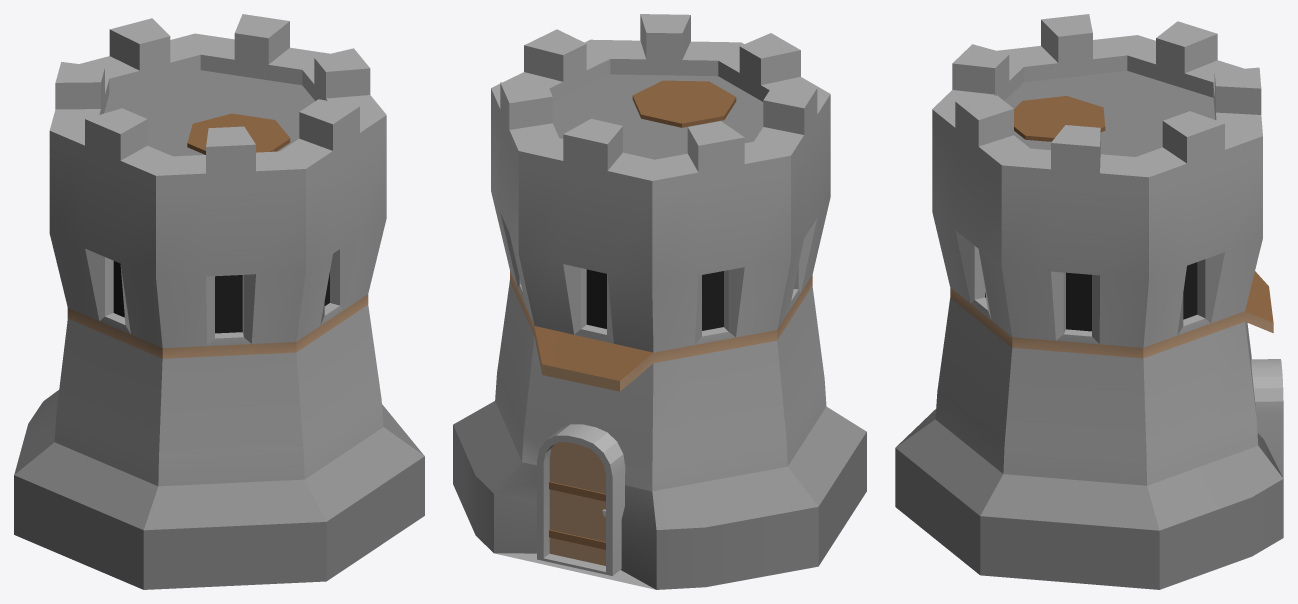
Rendered from tower.glb.
3 views of the same model, side by side, from view 1: azimuth 30°, elevation 25°; view 2: azimuth 150°, elevation 25°; view 3: azimuth 270°, elevation 25° (orthographic).
Visible parts, largest first — view 1: tower; view 2: tower; view 3: tower.
Boxes of the visible parts, left/top/right/bottom form: tower: left=14, top=14, right=424, bottom=589; tower: left=453, top=14, right=866, bottom=589; tower: left=895, top=14, right=1283, bottom=589.
Size of the model in its own units: 3.68 by 4.2 by 3.49.
Materials: 1 (1 with a texture image).
